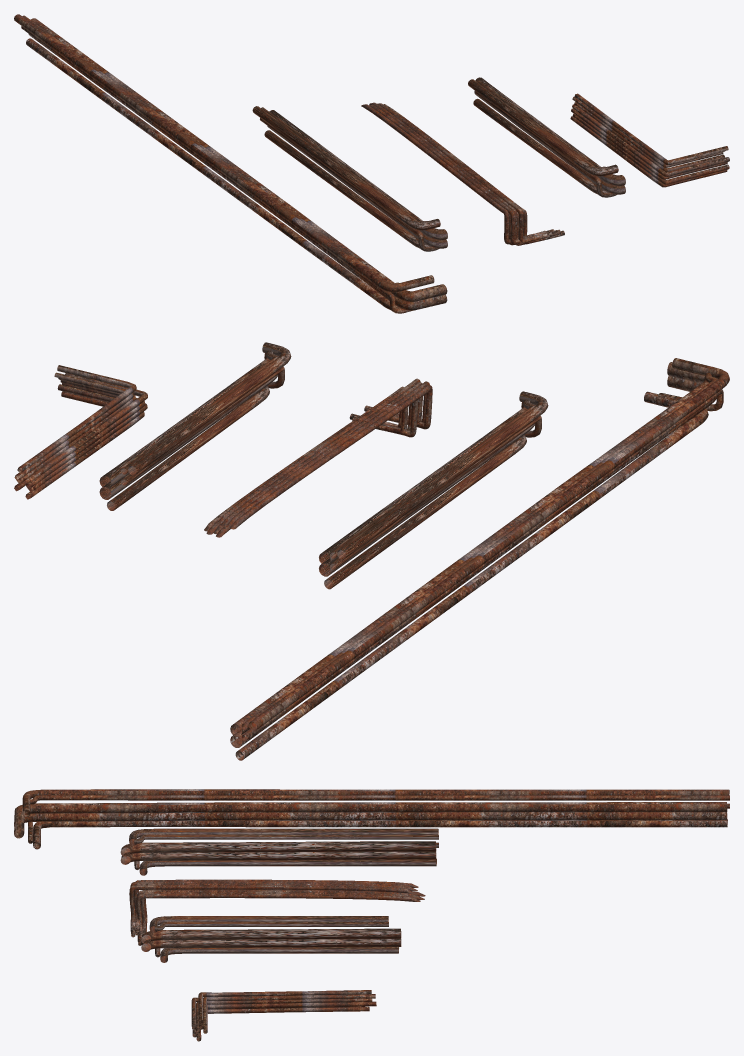
File: Decorational Pipelines_FBX.fbx
3 views of the same model, one above another, from view 1: azimuth 30°, elevation 25°; view 2: azimuth 150°, elevation 25°; view 3: azimuth 270°, elevation 25° (orthographic). The views are drawn at different scales.
Visible parts, largest first — view 1: Tuberías largas, Tuberías medianas 2, Tuberías pequeñas 2, Tuberías pequeñas 1, Tuberías medianas 1; view 2: Tuberías largas, Tuberías medianas 2, Tuberías pequeñas 2, Tuberías pequeñas 1, Tuberías medianas 1; view 3: Tuberías largas, Tuberías medianas 2, Tuberías pequeñas 2, Tuberías medianas 1, Tuberías pequeñas 1.
Part boxes in pixels (x1,y1,x2,y2): Tuberías largas: (14, 14, 447, 313); Tuberías medianas 2: (252, 106, 447, 251); Tuberías pequeñas 2: (468, 77, 625, 197); Tuberías pequeñas 1: (570, 93, 729, 187); Tuberías medianas 1: (361, 102, 564, 245); Tuberías largas: (230, 358, 729, 760); Tuberías medianas 2: (319, 391, 548, 589); Tuberías pequeñas 2: (99, 342, 291, 510); Tuberías pequeñas 1: (14, 365, 147, 499); Tuberías medianas 1: (204, 378, 432, 537); Tuberías largas: (14, 789, 729, 849); Tuberías medianas 2: (120, 828, 438, 875); Tuberías pequeñas 2: (141, 916, 401, 962); Tuberías medianas 1: (129, 879, 425, 945); Tuberías pequeñas 1: (191, 990, 376, 1041).
Bounding box in the file's own units: 4600 × 586 × 6941.
